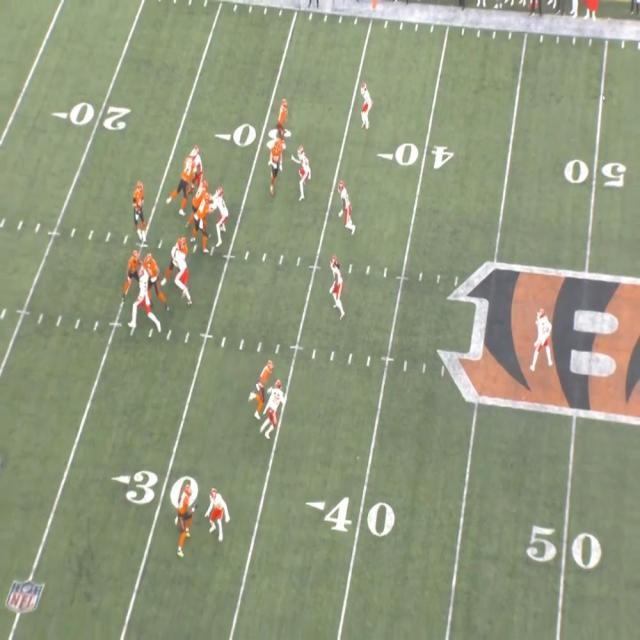center: (192, 192, 211, 250)
db: (210, 486, 237, 538), (531, 310, 553, 368), (265, 383, 285, 436), (298, 147, 308, 199), (362, 84, 373, 130)
lb: (326, 259, 342, 311), (336, 183, 350, 231)
qb: (132, 183, 146, 240)
skill: (124, 248, 143, 304), (177, 485, 191, 554), (254, 364, 274, 403), (270, 140, 280, 190), (276, 98, 290, 132)
